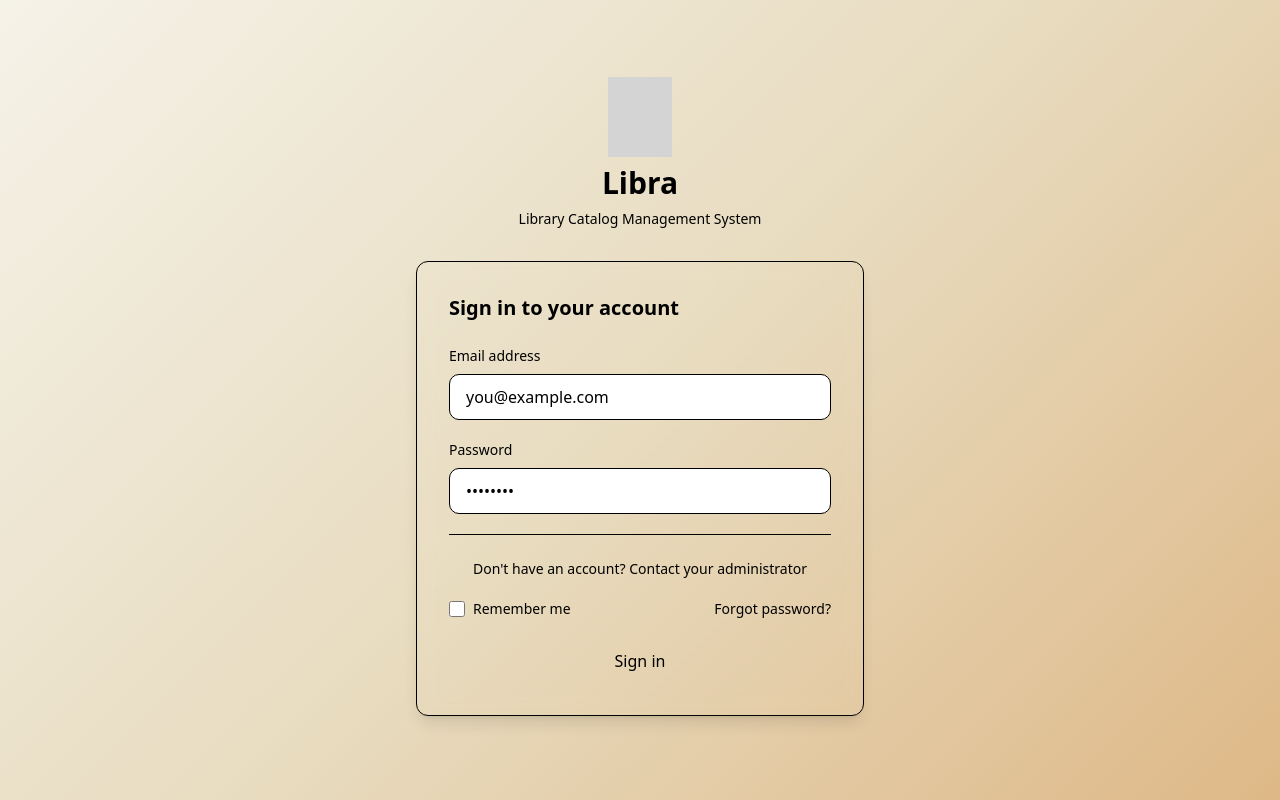
Test: Failed login › clears the error message when a new submission begins
Type "wrong@example.com" into the field labelled "Email address" at (640,396), box [449,374,831,420]
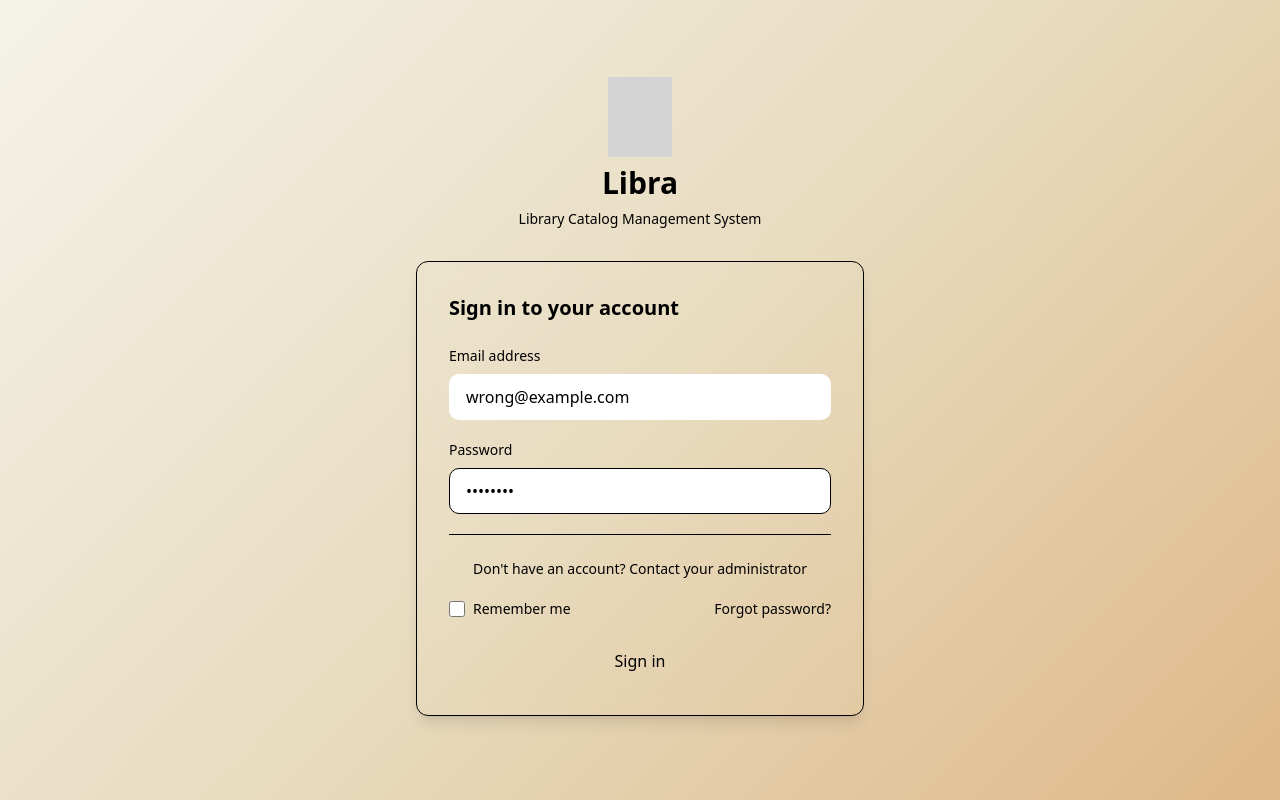
Type "badpassword" into the password field labelled "Password" at (640,490), box [449,468,831,514]
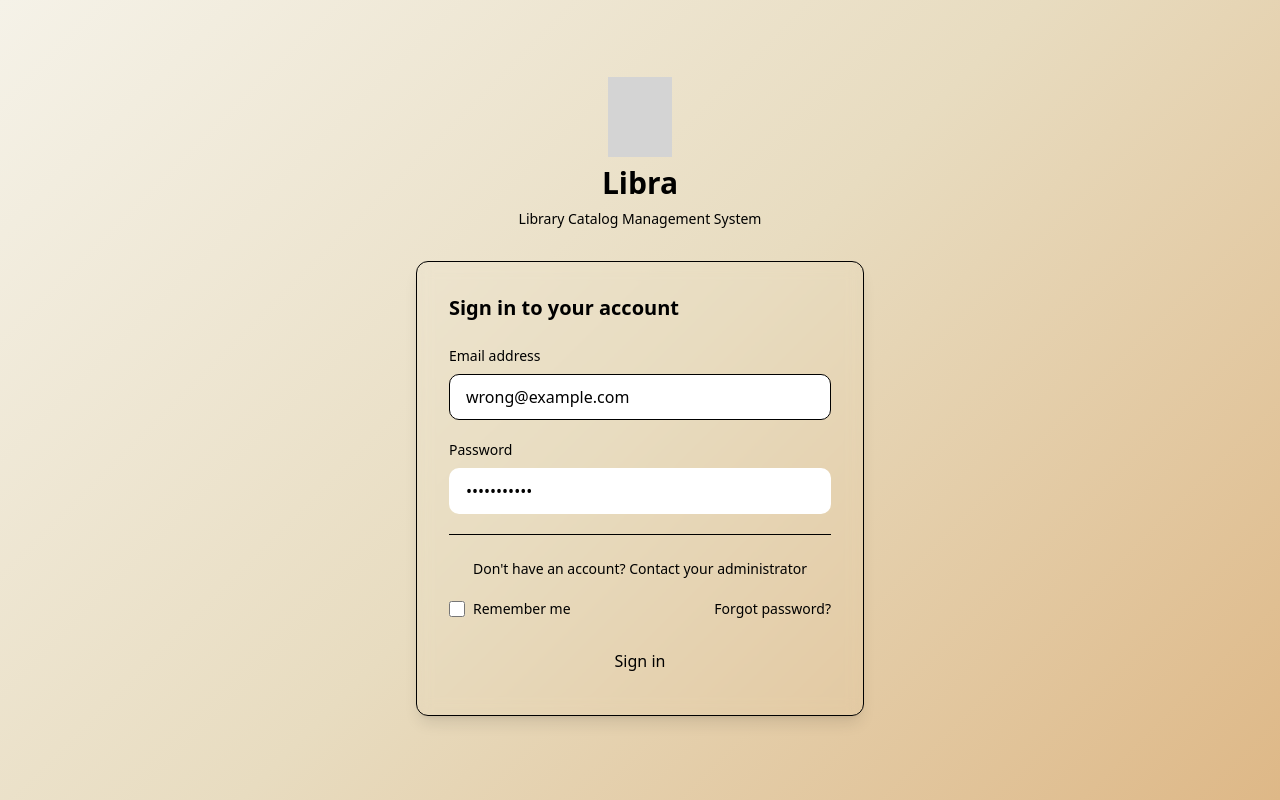
Click the button "Sign in" at (640,660), box [449,638,831,682]
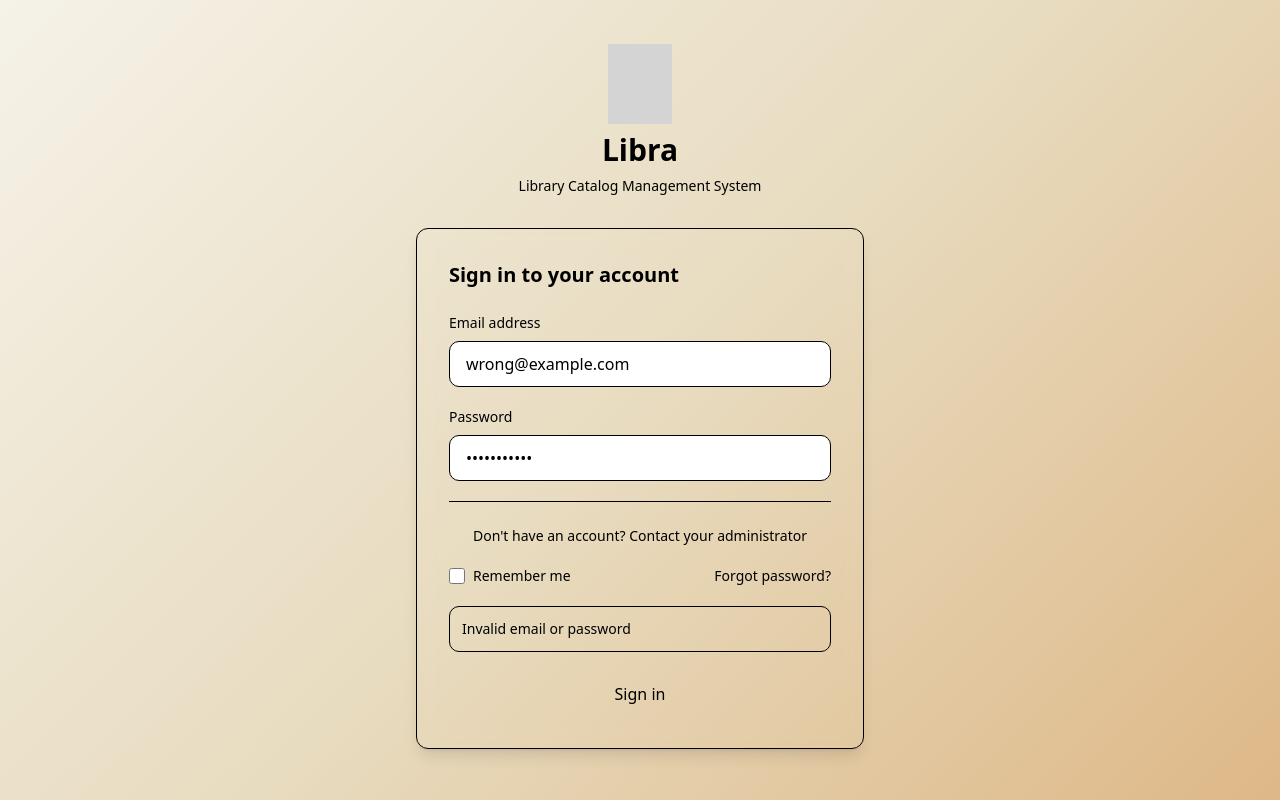
Expected: the text "Invalid email or password" is shown, [462,618,631,638]
Submit the form, box [449,312,831,716]
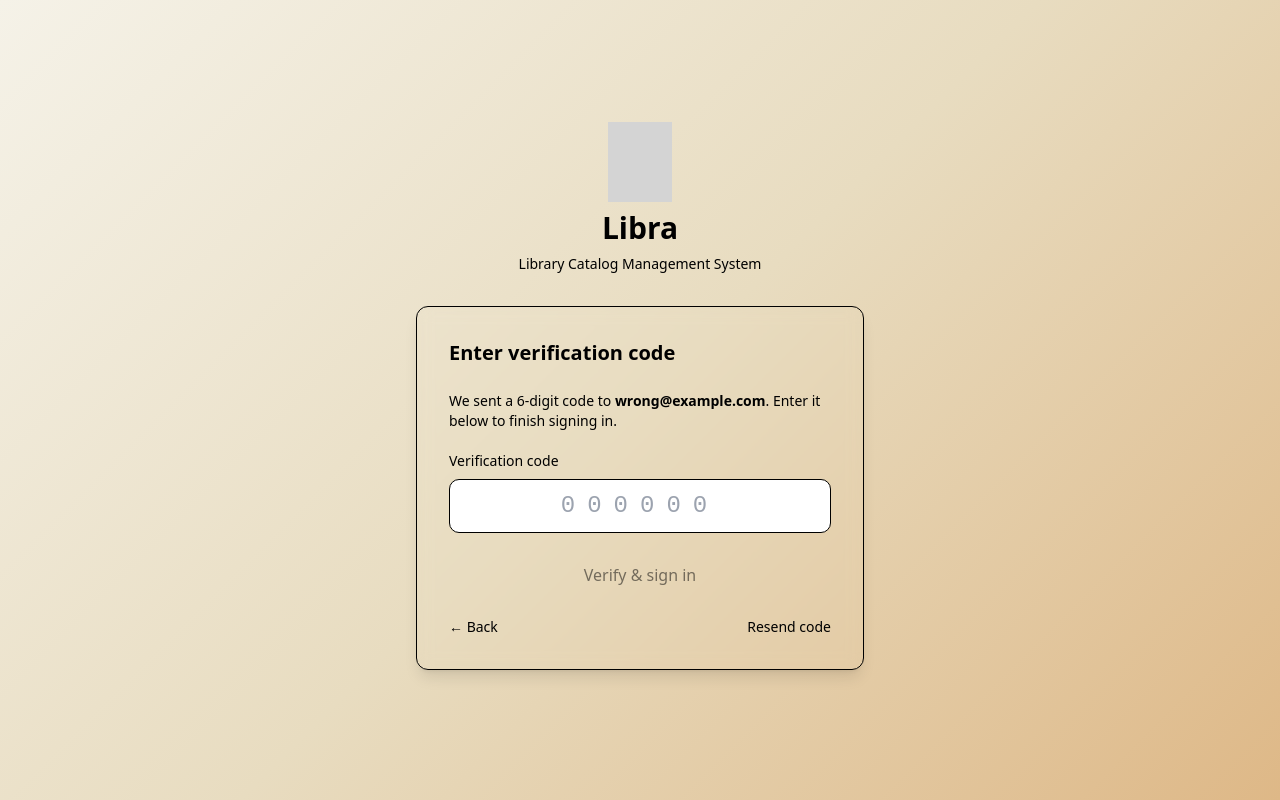
Expected: the text "Invalid email or password" is gone
